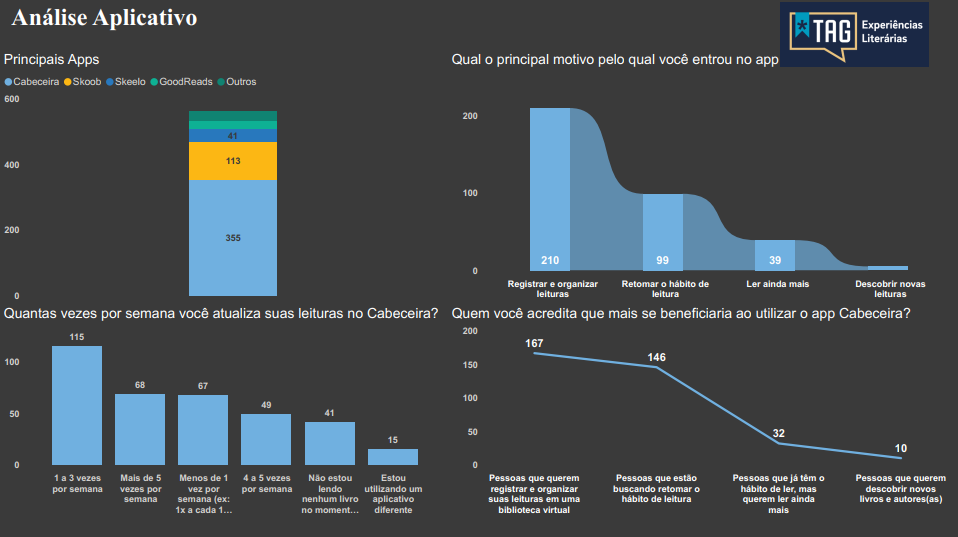

The dashboard page shown, as its layout file describes it:
{"tool":"powerbi","page":{"name":"Aplicativo","canvas":[1280,720],"ordinal":2},"visuals":[{"type":"textbox","box":[10.1,0,729,58.8],"z":0},{"type":"columnChart","title":"Principais Apps","fields":{"Y":["Sum(SimApp.Cabeceira)","Sum(SimApp.Skoob)","Sum(SimApp.Skeelo)","Sum(SimApp.GoodReads)","Sum(SimApp.Other)"]},"box":[0,69.1,596.2,338.4],"z":1000},{"type":"columnChart","title":"Quantas vezes por semana você atualiza suas leituras no Cabeceira?","fields":{"Category":["Base.Quantas vezes por semana você atualiza suas leituras no Cabeceira"],"Y":["CountNonNull(Base.Quantas vezes por semana você atualiza suas leituras no Cabeceira)"]},"box":[0,407.1,595.6,288],"z":2000},{"type":"ribbonChart","title":"Qual o principal motivo pelo qual você entrou no app Cabeceira?","fields":{"Category":["Base.Qual o principal motivo pelo qual você entrou no app Cabeceira?"],"Y":["CountNonNull(Base.Qual o principal motivo pelo qual você entrou no app Cabeceira?)"]},"box":[596.2,69.1,684,338.4],"z":3000},{"type":"lineChart","title":"Quem você acredita que mais se beneficiaria ao utilizar o app Cabeceira?","fields":{"Category":["Base.Quem você acredita que mais se beneficiaria ao utilizar o app Cabeceira?"],"Y":["CountNonNull(Base.Quem você acredita que mais se beneficiaria ao utilizar o app Cabeceira?)"]},"box":[596,407,684,288],"z":4000},{"type":"image","box":[993.6,0,286.6,95],"z":5000}]}

Visuals, with their boxes in screenshot pixels (x1, y1, x2, y2), scaled from the page's 1280x720 canvas onto the 958x537 screenshot:
textbox: rect(8, 0, 553, 44)
"Principais Apps" columnChart: rect(0, 52, 446, 304)
"Quantas vezes por semana você atualiza suas leituras no Cabeceira?" columnChart: rect(0, 304, 446, 518)
"Qual o principal motivo pelo qual você entrou no app Cabeceira?" ribbonChart: rect(446, 52, 957, 304)
"Quem você acredita que mais se beneficiaria ao utilizar o app Cabeceira?" lineChart: rect(446, 304, 957, 518)
image: rect(744, 0, 957, 71)
